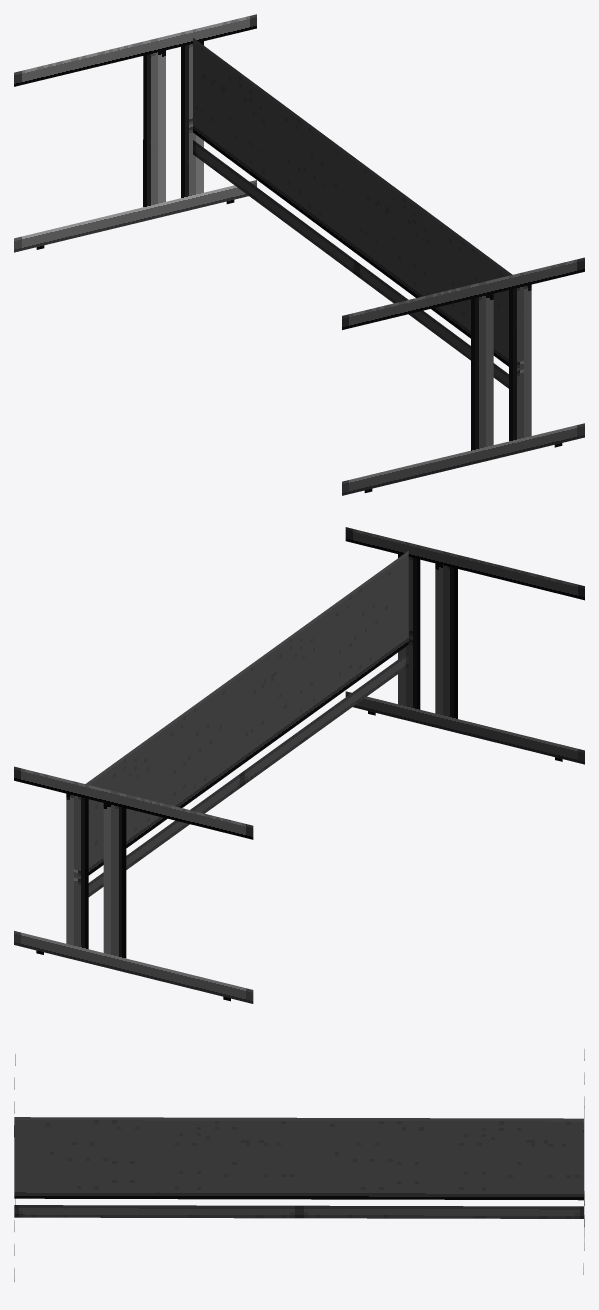
File: secondary_162.glb
3 renders of one model, top to bottom at view 1: azimuth 30°, elevation 25°; view 2: azimuth 150°, elevation 25°; view 3: azimuth 270°, elevation 25°, orthographic. The views are drawn at different scales.
Parts seen in each view (by area): view 1: Object; view 2: Object; view 3: Object.
Boxes of the visible parts, x1,y1,x2,y2 form: Object: [14, 14, 584, 495]; Object: [14, 527, 584, 1003]; Object: [14, 1049, 584, 1281].
Bounding box in the file's own units: 1.29 × 0.9189 × 3.02.
Materials: 3 (3 with a texture image).
